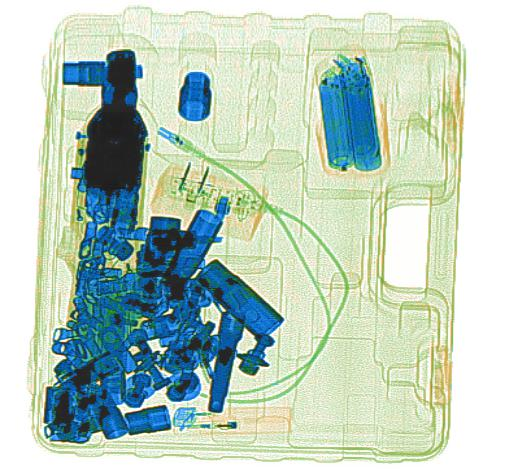battery: (317, 58, 383, 172)
lighter: (171, 404, 294, 432)
